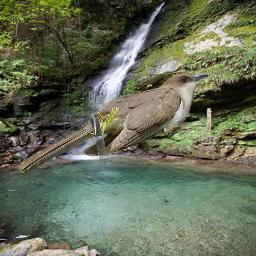Cuckoo: (17, 71, 208, 173)
